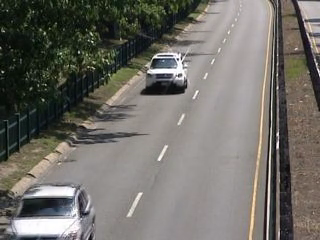car: (4, 175, 98, 240), (141, 50, 194, 98)
